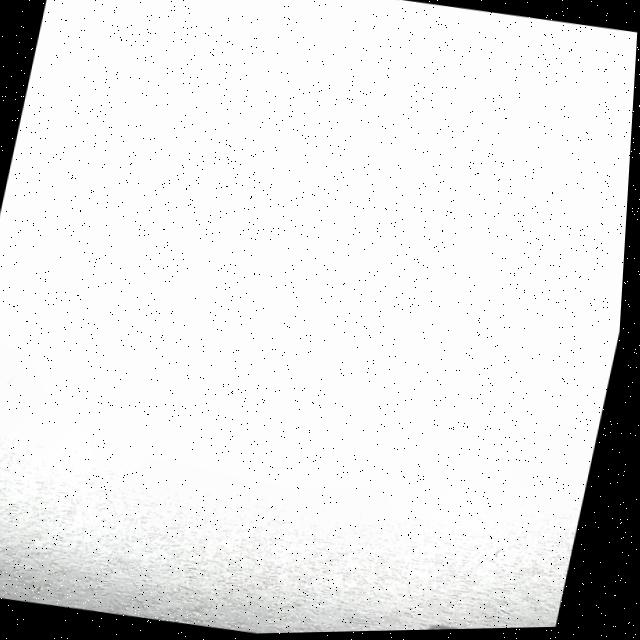Empty: (0, 0, 638, 628)
